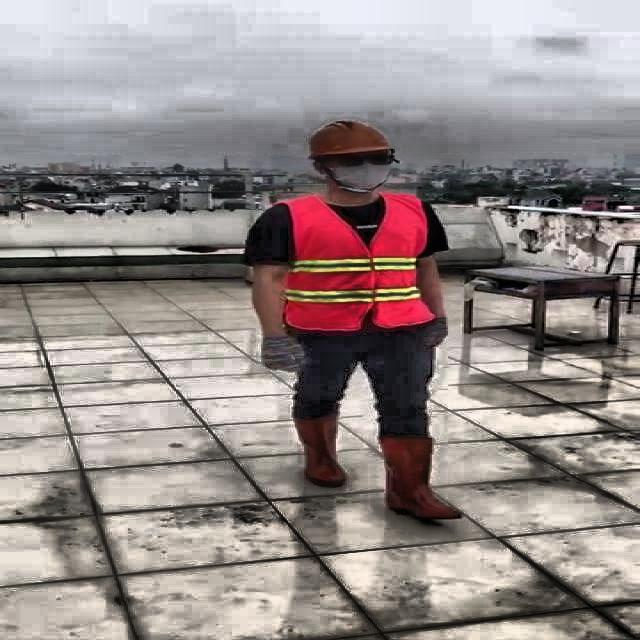safety_helmet: (307, 117, 392, 158)
safety_jacket: (276, 196, 430, 330)
